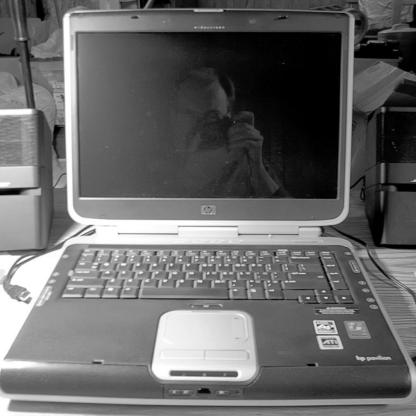board: (15, 18, 410, 390)
